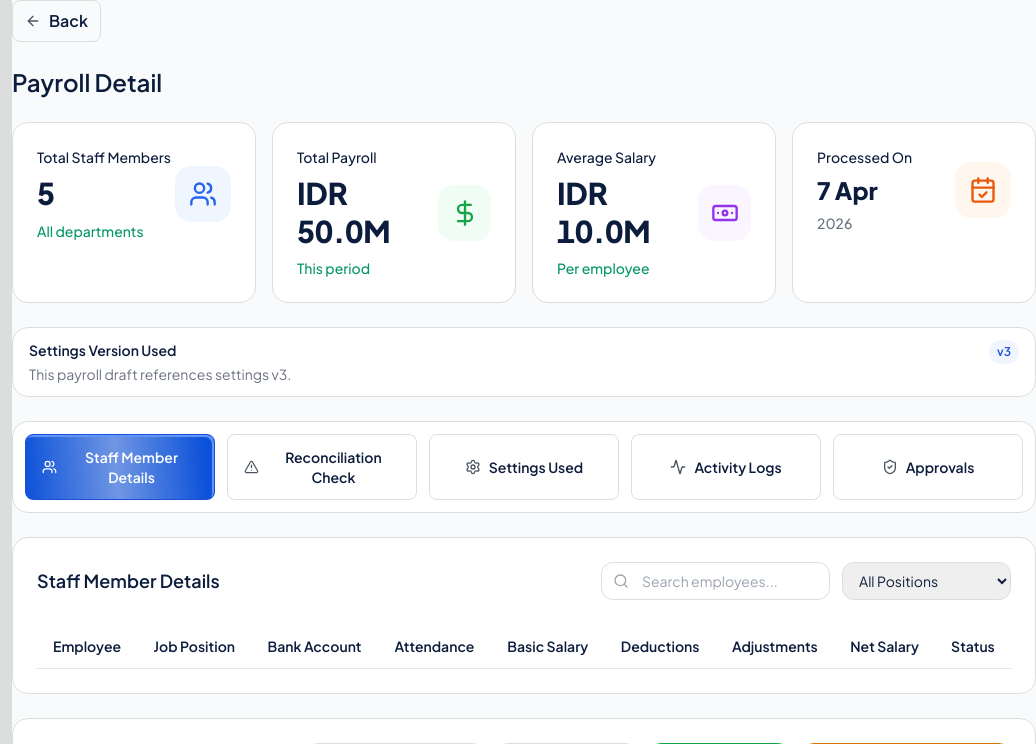
Test: PayrollReconciliation resolve modal › renders resolution badge for resolved exceptions
# Switch to reconciliation tab
Step 1. Click the button with test id "tab-reconciliation" → (322, 467), box [227,434,417,500]
(page scrolled)
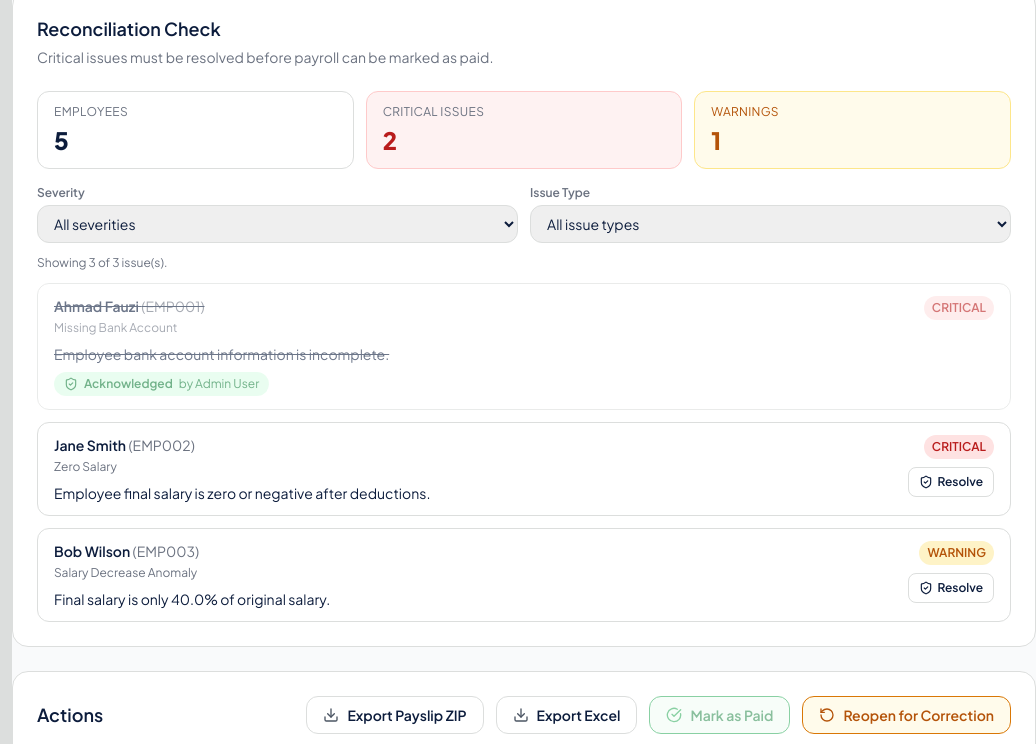
Now the number of elements with test id "reconciliation-resolution-badge" is 1, box [54,372,269,396]
Now the element with test id "reconciliation-resolution-badge" shows "Acknowledged", box [84,376,173,391]
Now the element with test id "reconciliation-resolution-badge" shows "Admin User", box [179,376,259,391]
